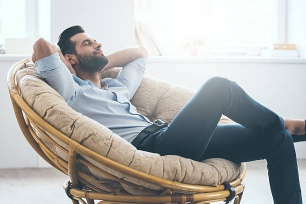male: (55, 30, 108, 79)
